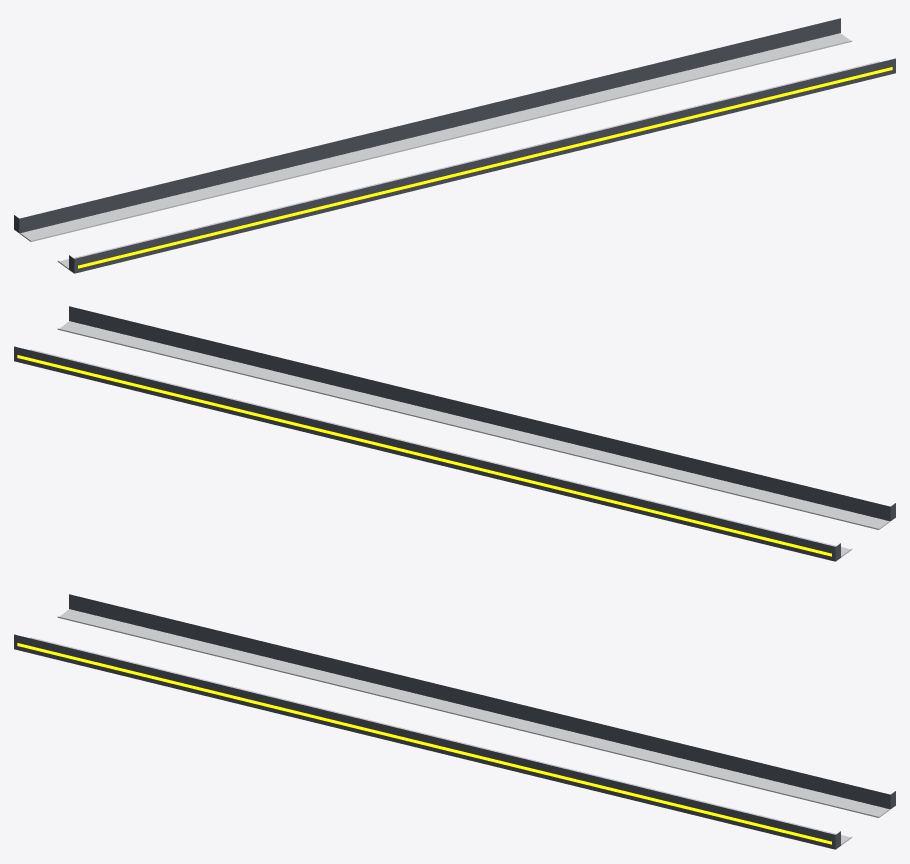
The model's file is ext_maglev_magnet_module_01.glb.
3 views of the same model, one above another, from view 1: azimuth 30°, elevation 25°; view 2: azimuth 150°, elevation 25°; view 3: azimuth 330°, elevation 25° (orthographic).
Visible parts, largest first — view 1: Magnet_Arms, Lev_Magnets, Lev_Glow; view 2: Magnet_Arms, Lev_Magnets, Lev_Glow; view 3: Magnet_Arms, Lev_Magnets, Lev_Glow.
Boxes of the visible parts, bbox=[...] form: Magnet_Arms: bbox=[14, 18, 895, 273]; Lev_Magnets: bbox=[19, 33, 879, 269]; Lev_Glow: bbox=[78, 67, 892, 268]; Magnet_Arms: bbox=[14, 306, 895, 561]; Lev_Magnets: bbox=[30, 321, 890, 557]; Lev_Glow: bbox=[17, 355, 831, 556]; Magnet_Arms: bbox=[14, 594, 895, 849]; Lev_Magnets: bbox=[30, 609, 890, 845]; Lev_Glow: bbox=[17, 643, 831, 844].
Bounding box in the file's own units: 11 × 0.194 × 1.41.
